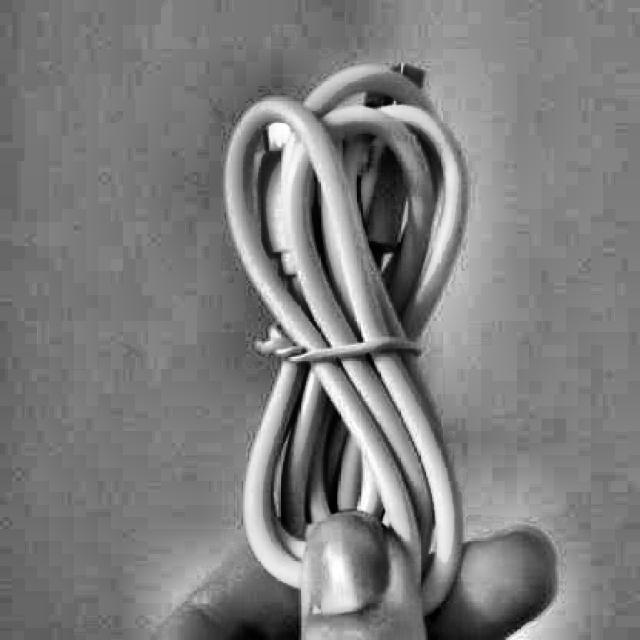Cable: (222, 62, 468, 620)
